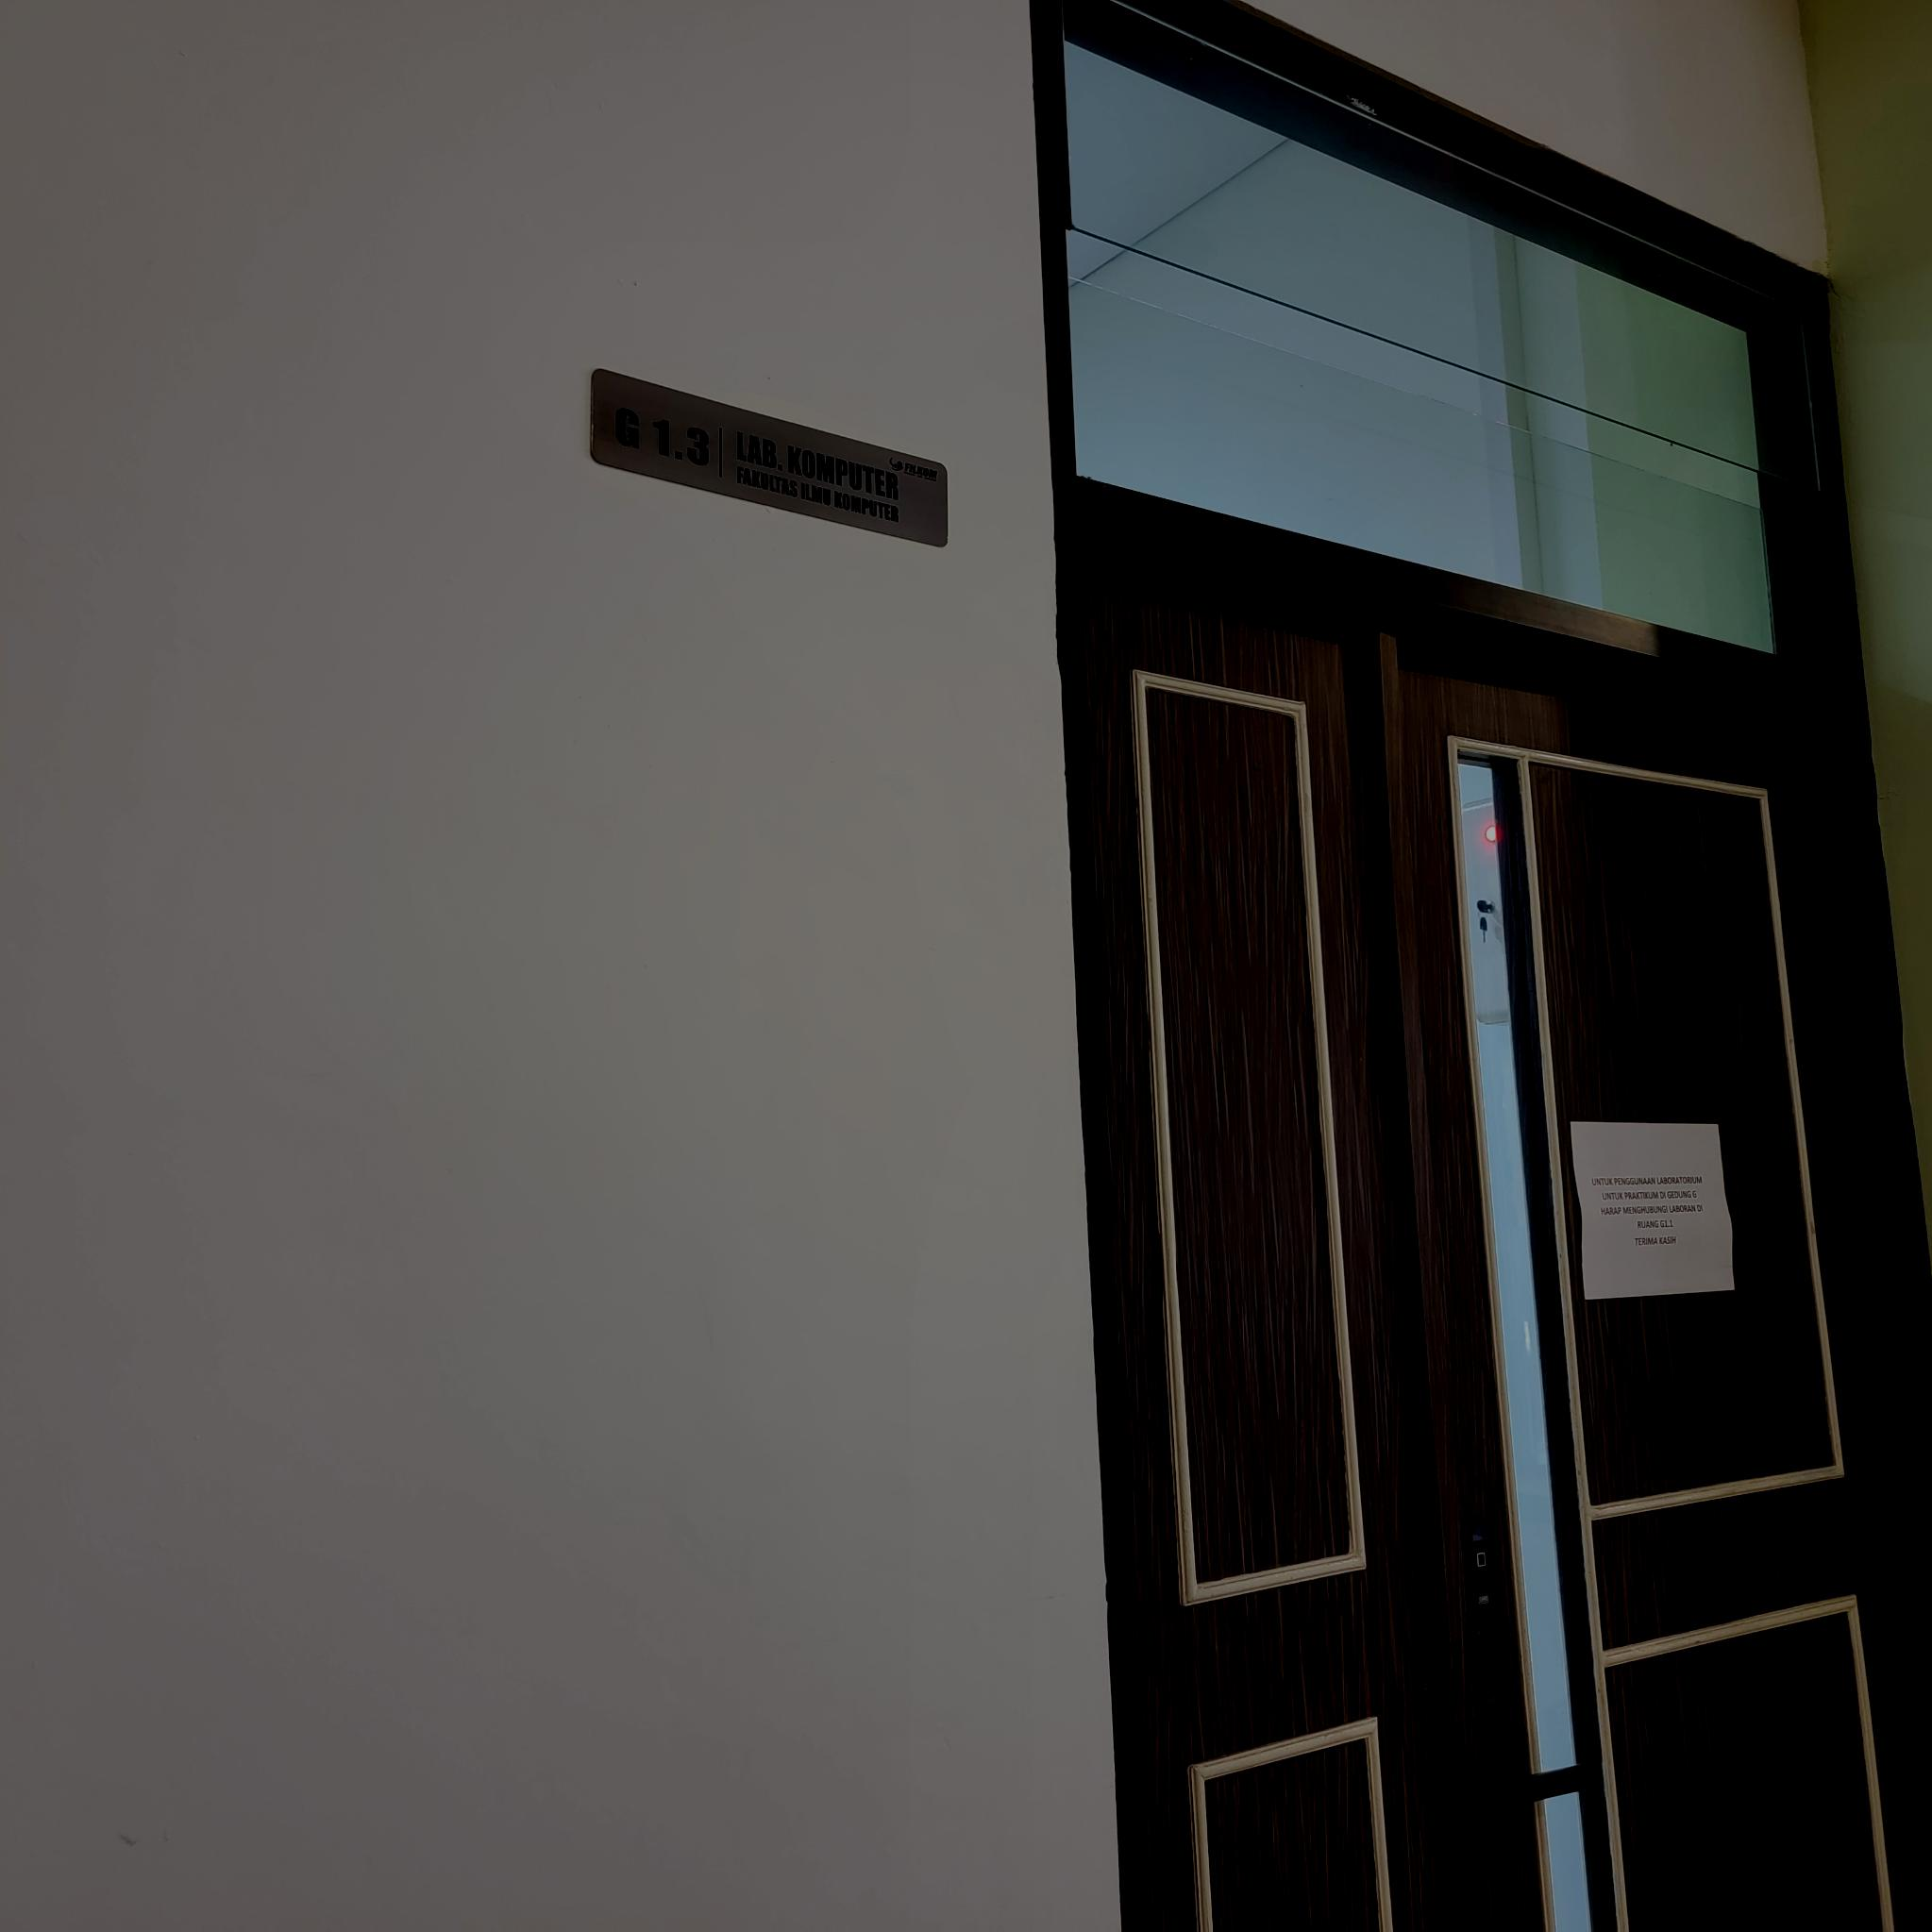plate: (591, 364, 948, 548)
